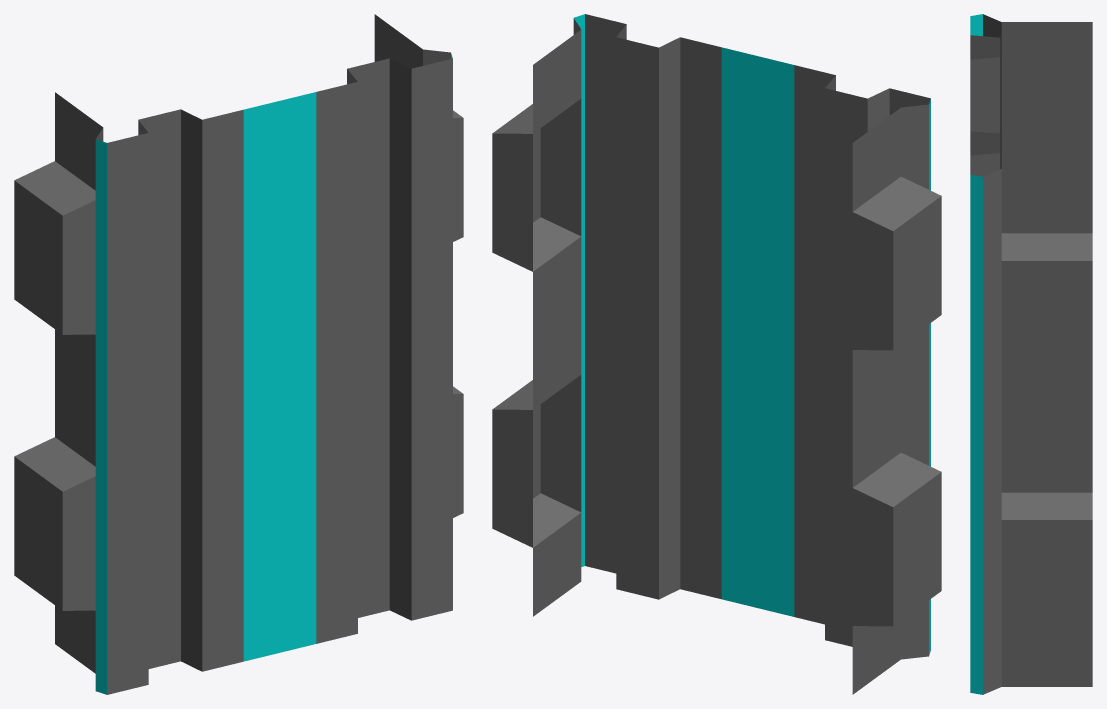
Rendered from gear rail joint.fbx.
The picture shows the model from 3 angles, left to right: view 1: azimuth 30°, elevation 25°; view 2: azimuth 150°, elevation 25°; view 3: azimuth 270°, elevation 25°; orthographic projection. The views are drawn at different scales.
Parts seen in each view (by area): view 1: rail_joint; view 2: rail_joint; view 3: rail_joint.
Part boxes in pixels (box(x1,y1,x2,y2)): rail_joint: box(14, 14, 463, 694); rail_joint: box(492, 14, 941, 694); rail_joint: box(970, 14, 1092, 694).
Size of the model in its own units: 7.6 by 10 by 2.14.
